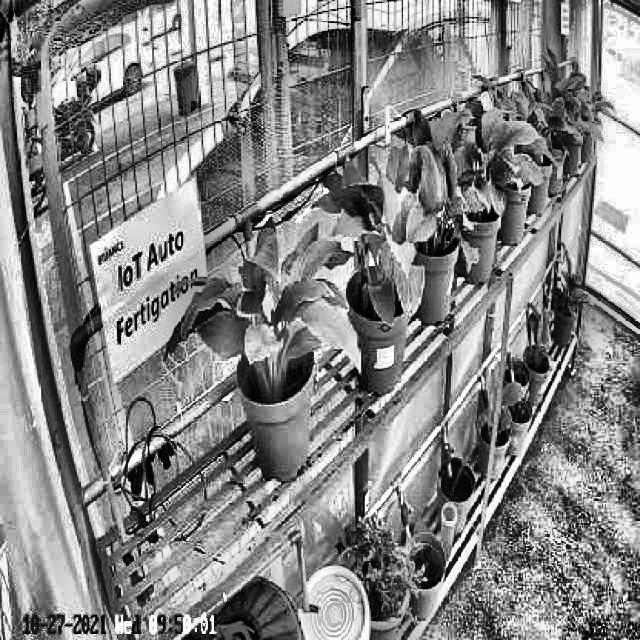plants: (166, 211, 360, 392), (324, 162, 426, 328), (386, 124, 480, 273), (438, 109, 544, 217)
